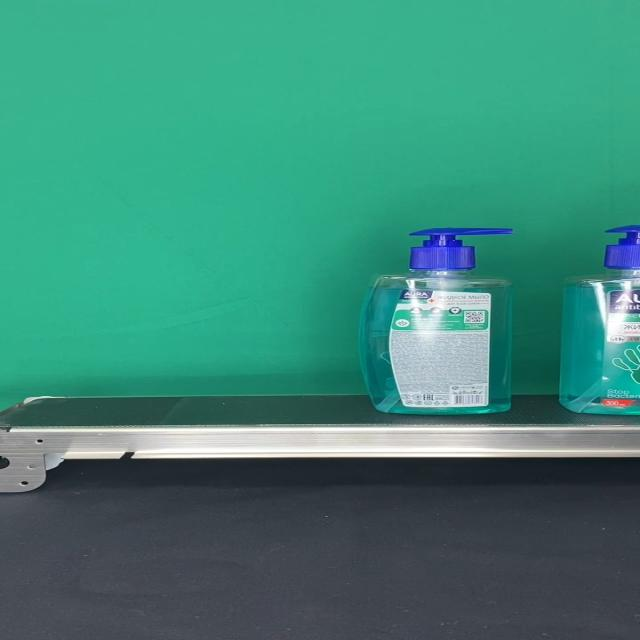Bottle: (358, 228, 513, 415)
Cap: (407, 228, 513, 269)
